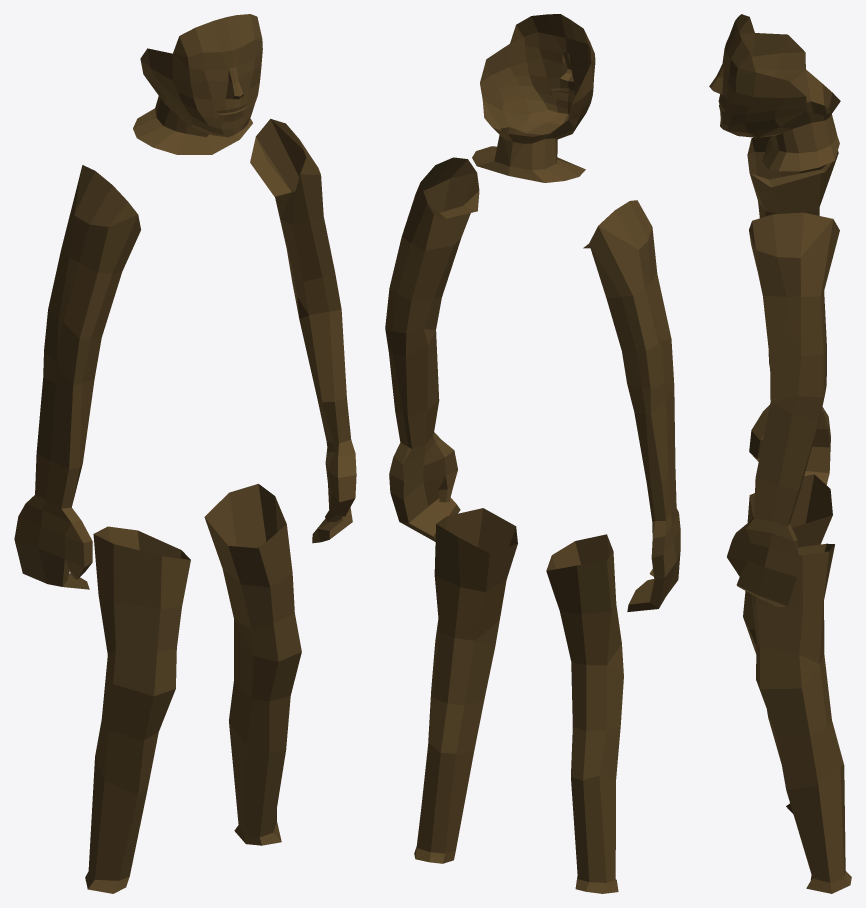
File: Skin_011.obj
3 views of the same model, side by side, from view 1: azimuth 30°, elevation 25°; view 2: azimuth 150°, elevation 25°; view 3: azimuth 270°, elevation 25° (orthographic). The views are drawn at different scales.
Size of the model in its own units: 0.6215 by 1.69 by 0.264.
